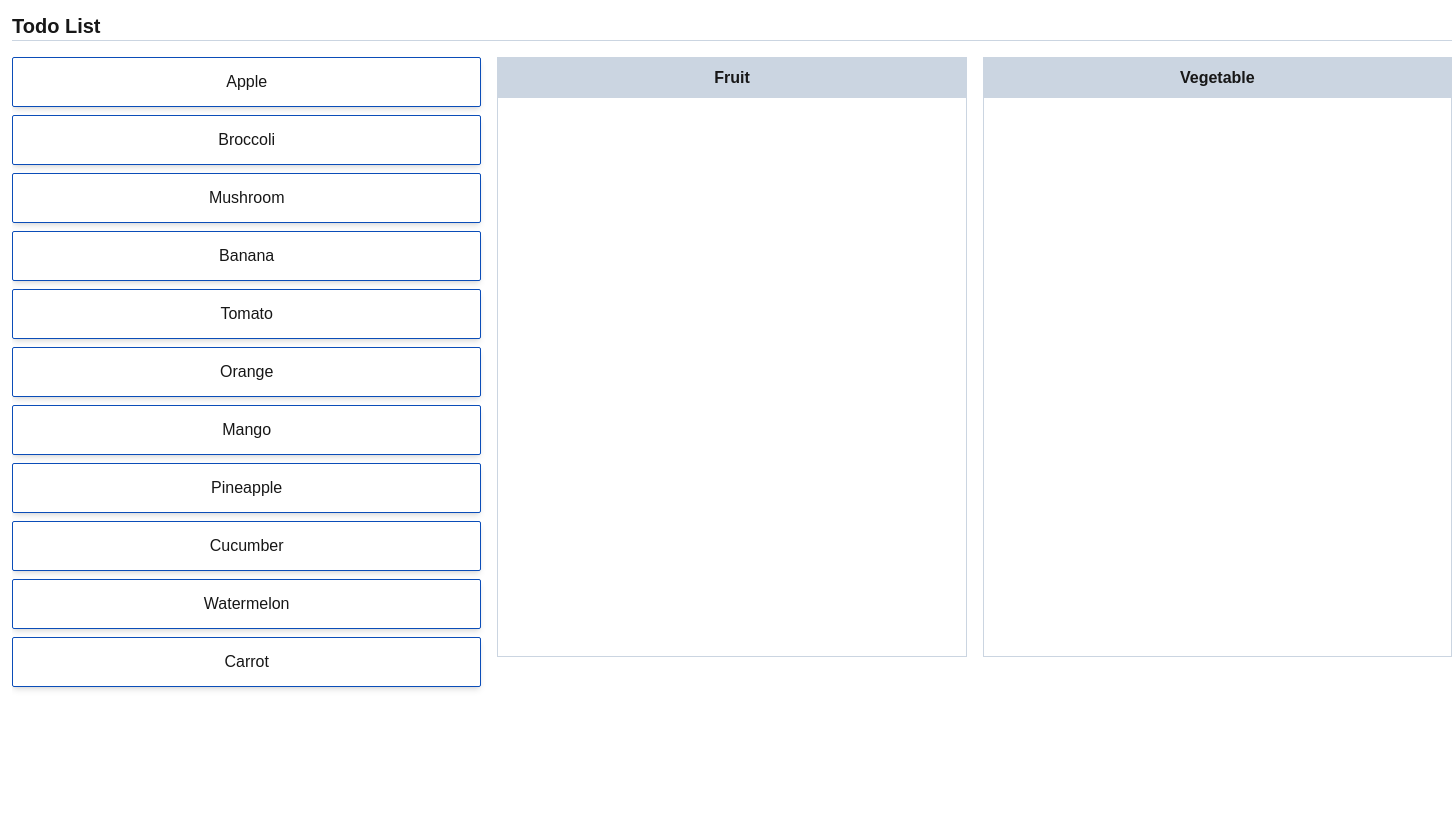
Todo List › should render Todo List and can select item correctly
This screenshot has width=1452, height=822.
Click the button with test id "todo-item" showing "Apple": coordinates (247, 82) [12, 57, 481, 107]
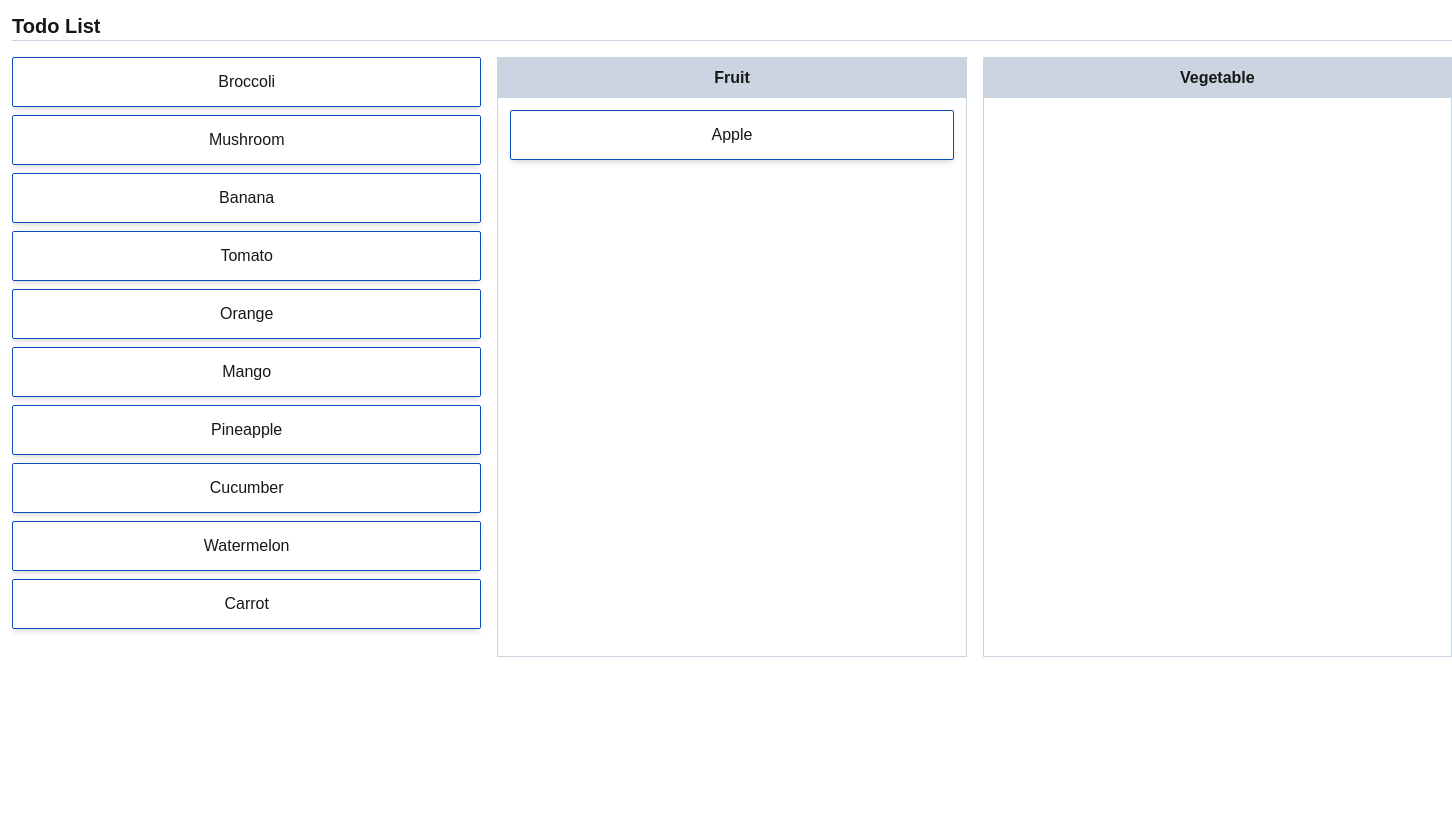
Now the number of buttons with test id "todo-item" is 10
